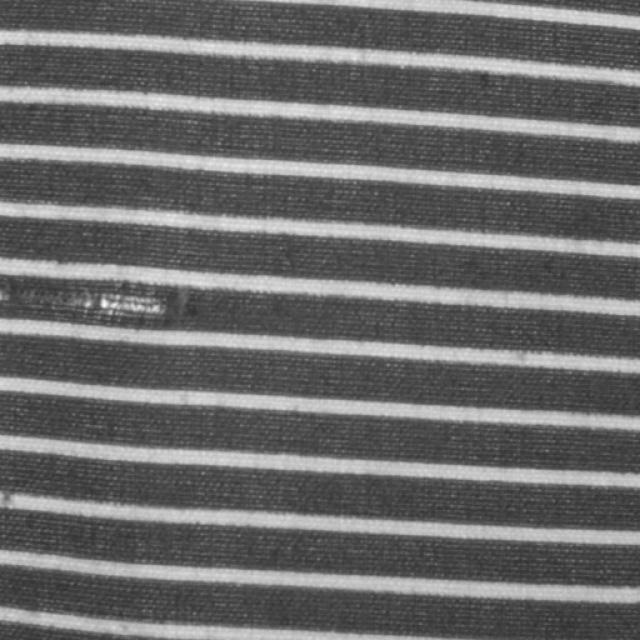Thread-Defect: (0, 276, 195, 328)
